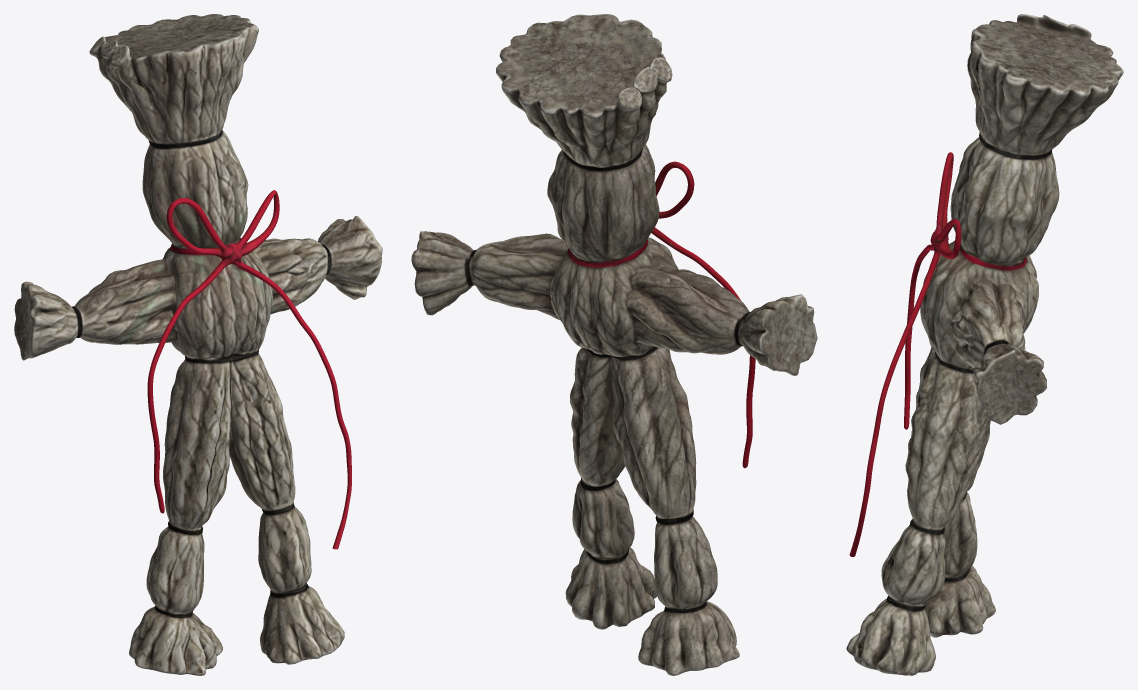
Rendered from doll.glb.
3 renders of one model, left to right at view 1: azimuth 30°, elevation 25°; view 2: azimuth 150°, elevation 25°; view 3: azimuth 270°, elevation 25°, orthographic. The views are drawn at different scales.
Parts seen in each view (by area): view 1: tripo_node_f329d05f; view 2: tripo_node_f329d05f; view 3: tripo_node_f329d05f.
Boxes of the visible parts, x1,y1,x2,y2 form: tripo_node_f329d05f: [14, 14, 382, 675]; tripo_node_f329d05f: [411, 14, 817, 675]; tripo_node_f329d05f: [846, 14, 1123, 675].
Bounding box in the file's own units: 60.82 × 97.87 × 40.33.
Materials: 1 (1 with a texture image).
